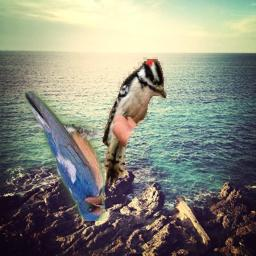Swallow: (24, 91, 105, 221)
Woodpecker: (102, 57, 167, 187)
